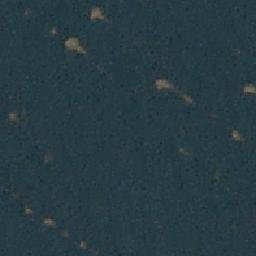debris: (51, 29, 86, 55), (155, 78, 191, 102), (24, 206, 54, 225), (61, 231, 87, 249), (6, 112, 23, 132), (87, 5, 107, 21), (243, 82, 256, 99), (230, 128, 242, 141)
